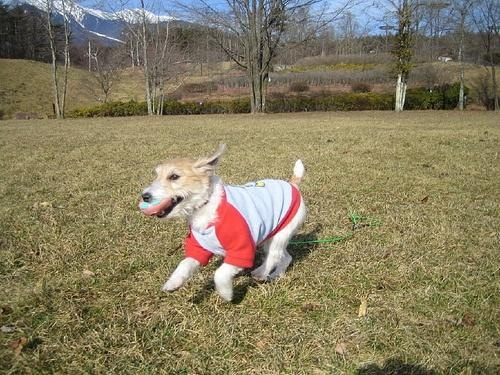dog: (139, 142, 307, 304)
